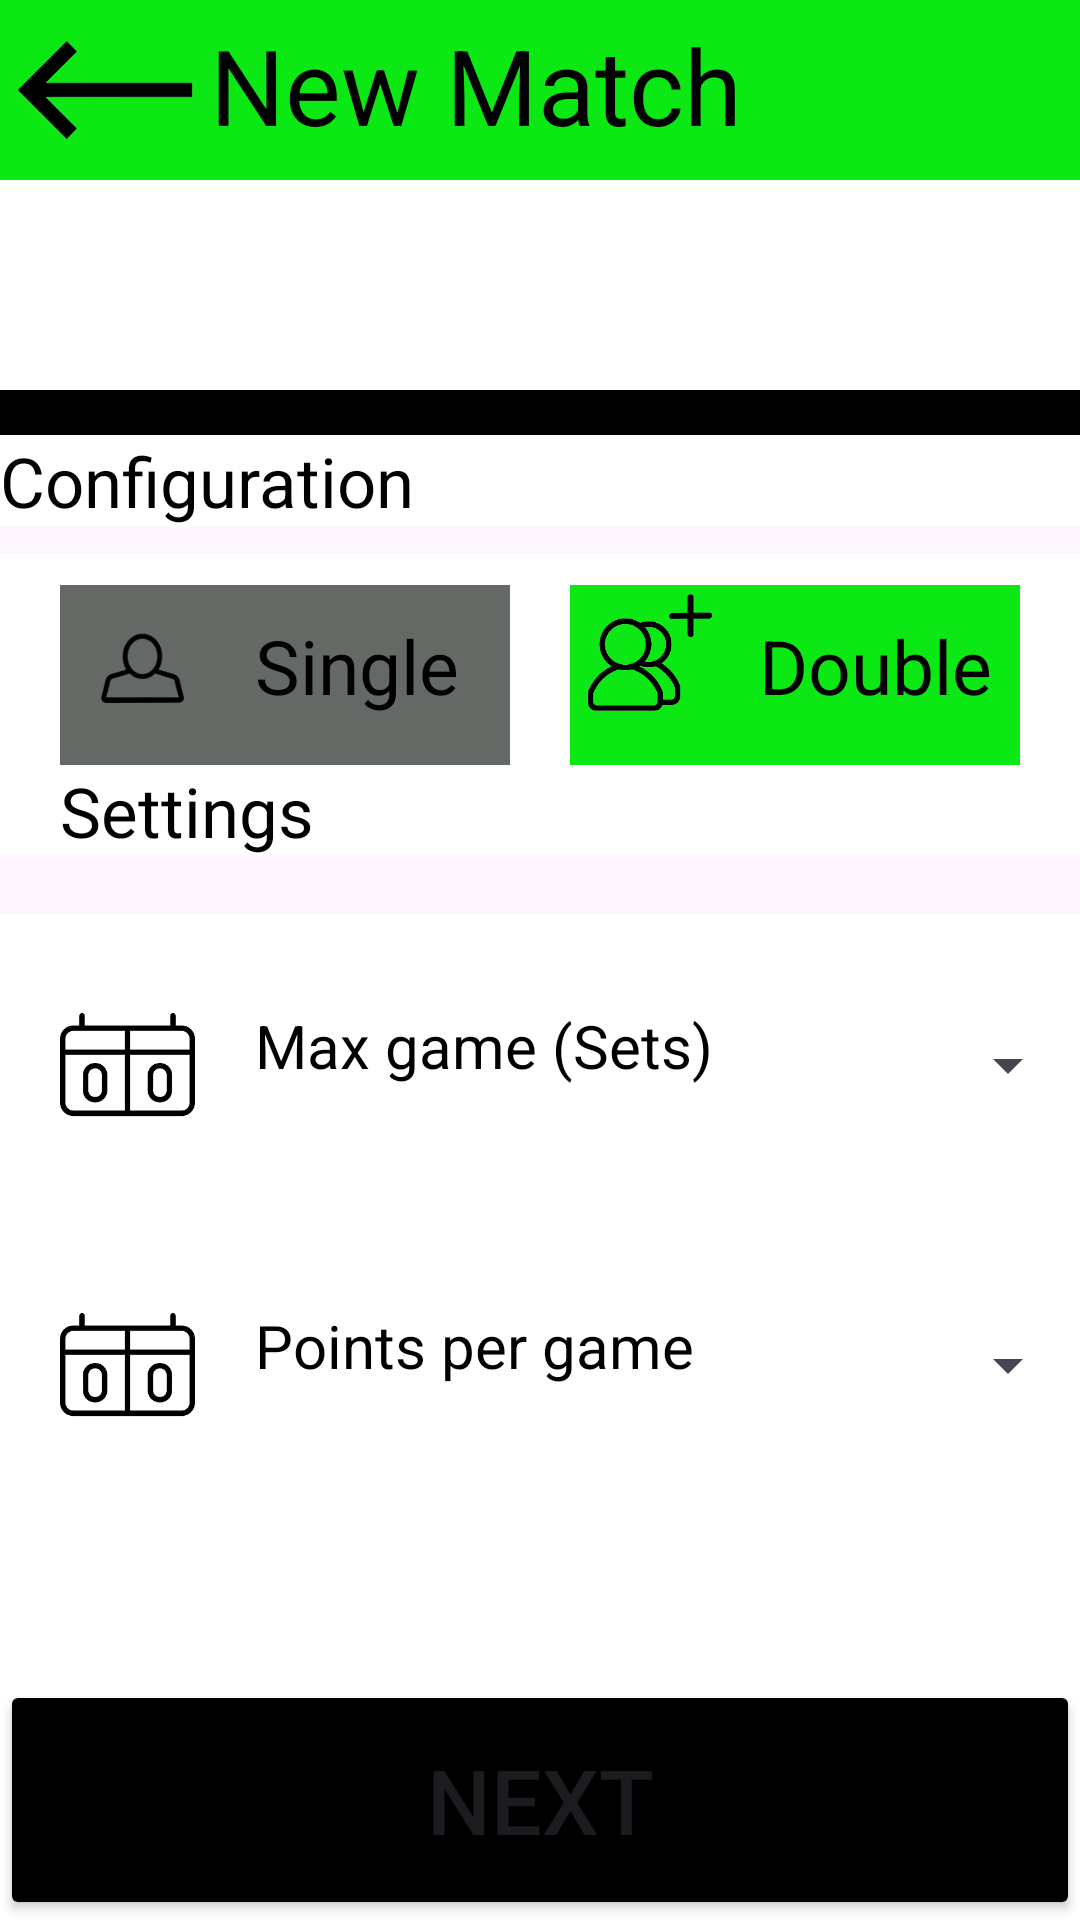

Named icons in this screenshot (1080x1920) and their centers, point (x, y):
left arrow: point (105, 90)
